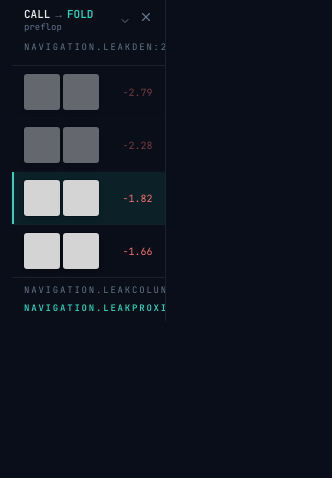
Test: coluna do leak › o menu lista os MESMOS leaks do card, na mesma ordem, e marca o aberto
The image size is (332, 478).
Click the button with test id "leak-menu-toggle".
click(77, 20)  # box [24,8,131,33]
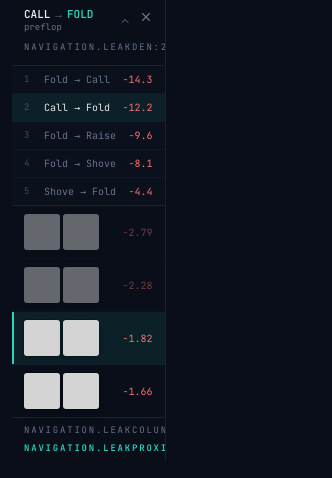
Expected: the button with test id "leak-menu-0" shows "−14.3", [12,66,165,94]
Expected: the button with test id "leak-menu-4" shows "−4.4", [12,178,165,205]
Expected: the button with test id "leak-menu-1" is disabled, [12,94,165,122]
